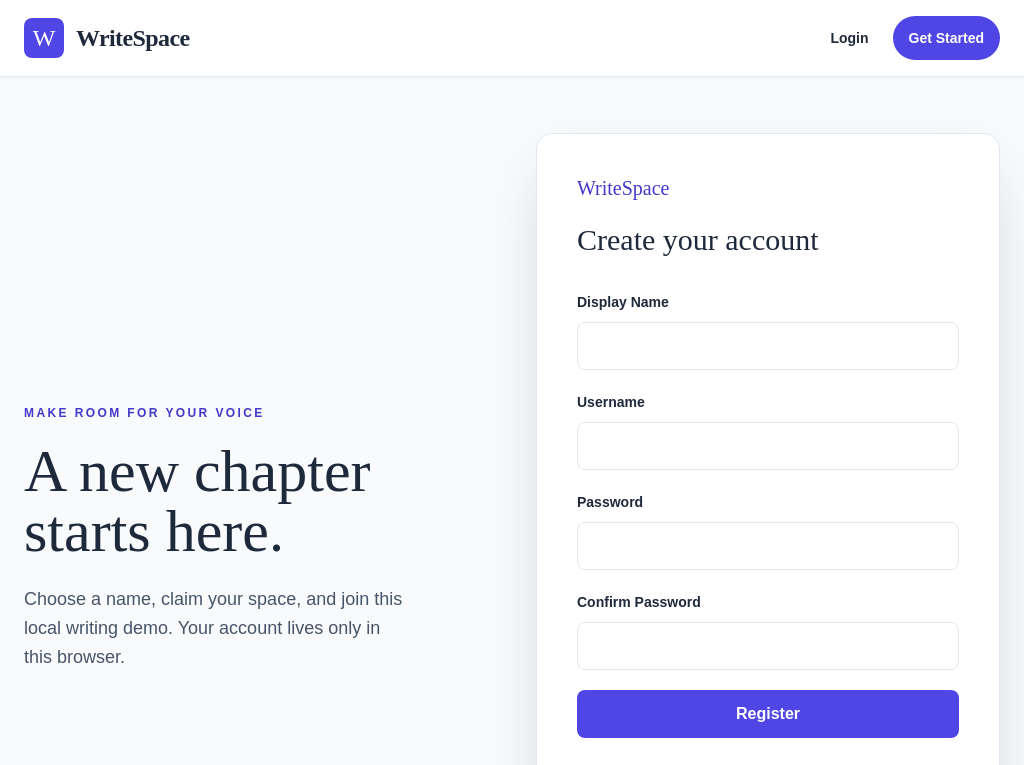
Scenario: forms and persistence › rejects an existing writer username in the visible form
Type "Ada Lovelace" into the field labelled "Display Name".
click(768, 346); type("Ada Lovelace")  # box 577,322 -> 959,370
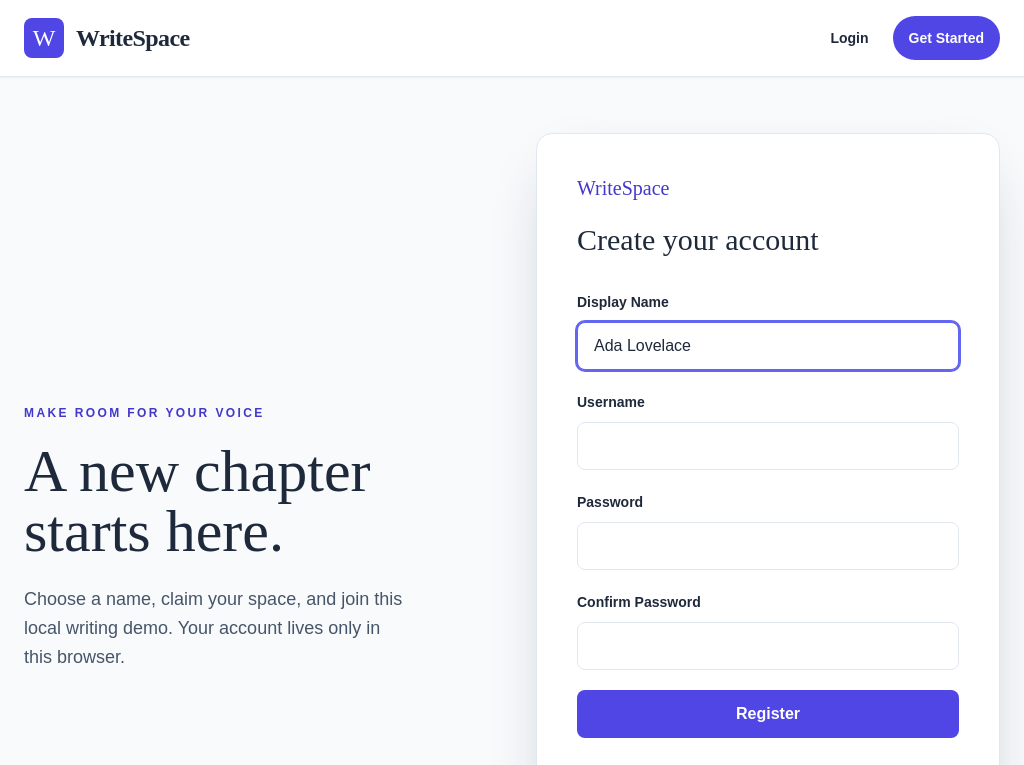
Type "ada" into the field labelled "Username".
click(768, 446); type("ada")  # box 577,422 -> 959,470
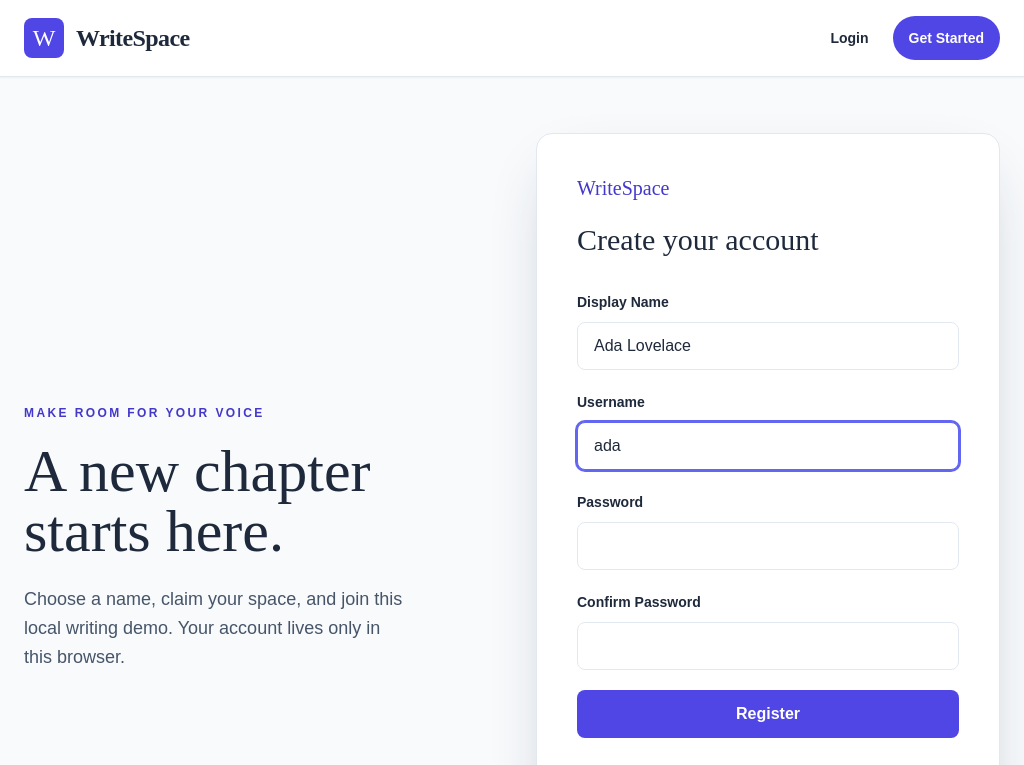
Type "demo" into the password field labelled "Password".
click(768, 546); type("demo")  # box 577,522 -> 959,570
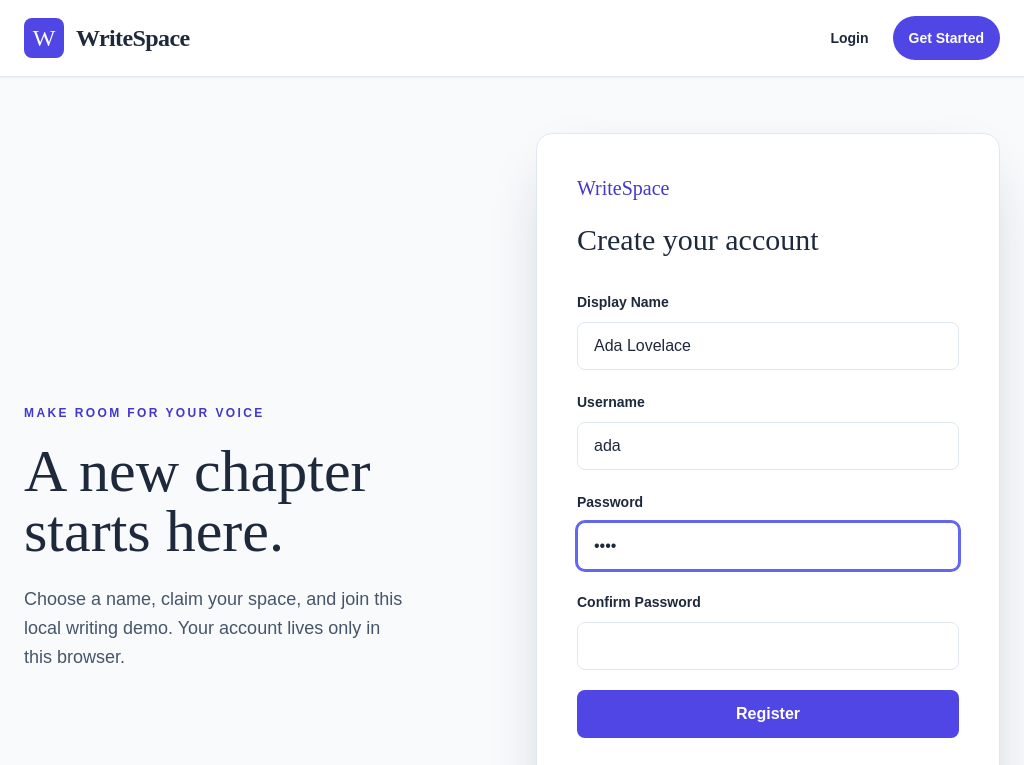
Type "demo" into the password field labelled "Confirm Password".
click(768, 646); type("demo")  # box 577,622 -> 959,670
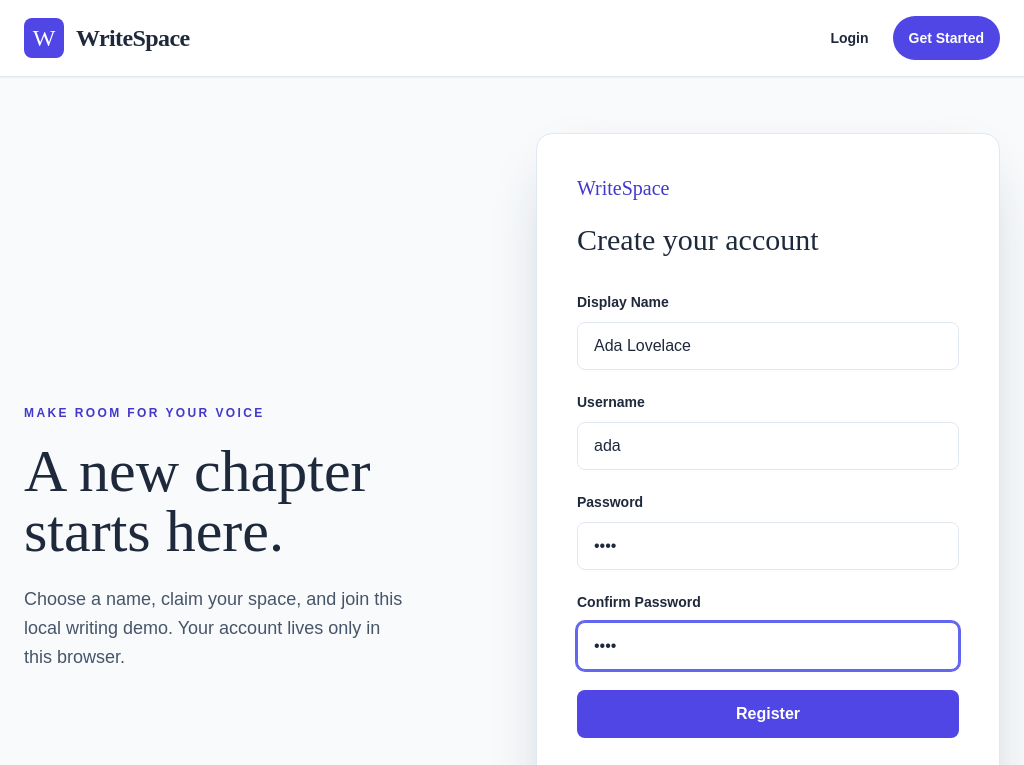
Click the button "Register".
click(768, 714)  # box 577,690 -> 959,738
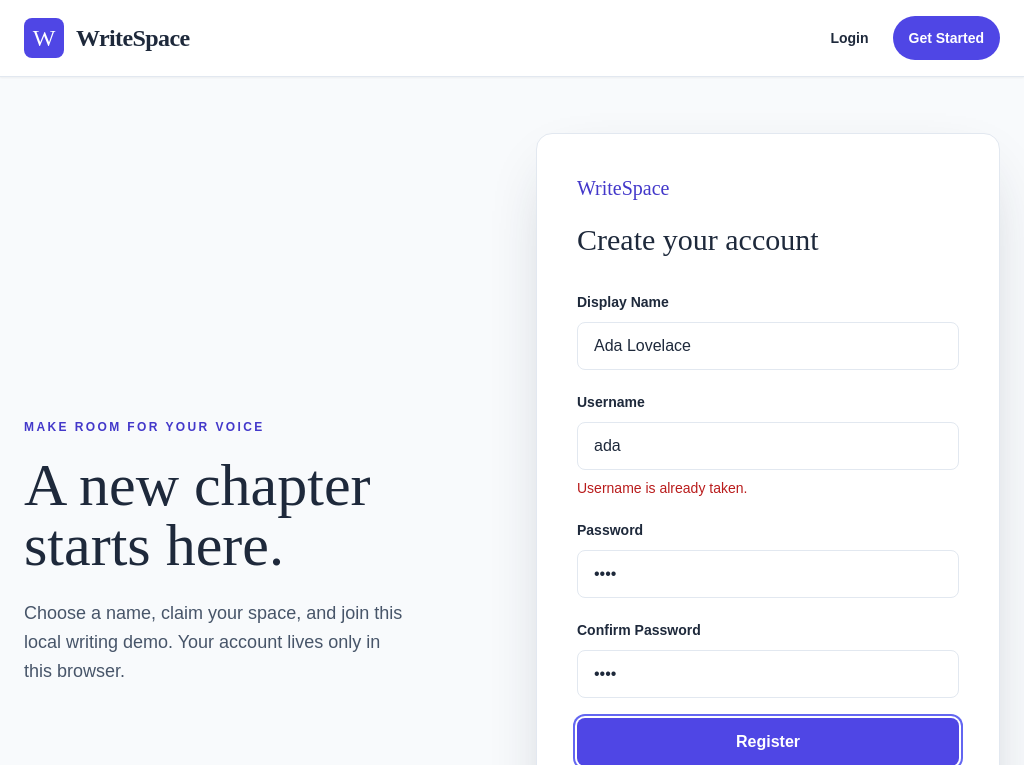
expect the text "Username is already taken." is shown: met, box 577,480 -> 747,496
